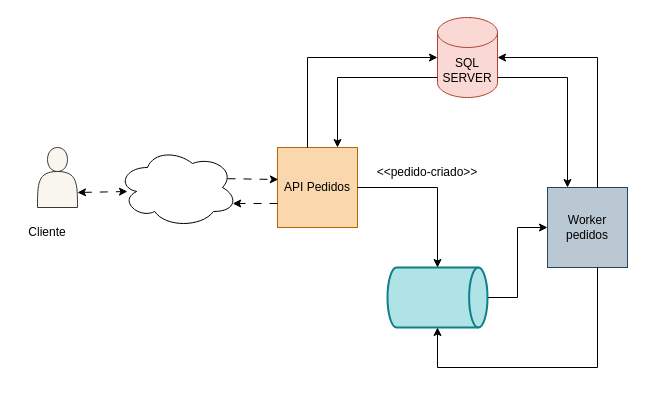
Image size: 645x393. Some labels were removed from this diagram. Here are the shapes that lost their labels. From the top down, the centre of each, then its label:
At (x=177, y=187): "DNS".
At (x=437, y=297): "KAFKA".
